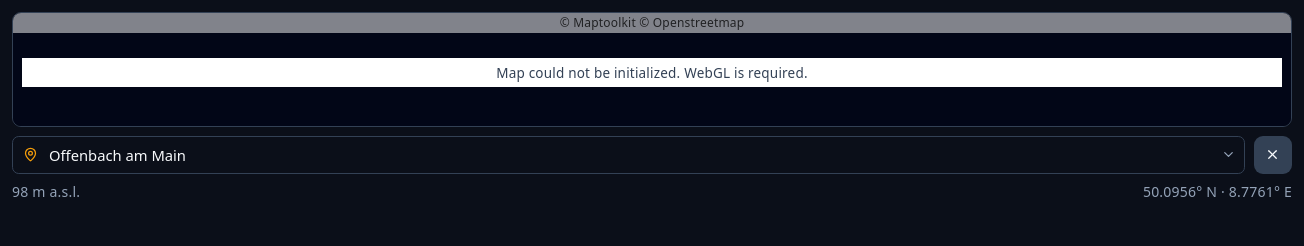
Test: LocationSelector Component › handles search API failure gracefully with error state
The width and height of the screenshot is (1304, 246).
Replace the text in the field with placeholder "Search location..." with "Fail" at (628, 155), box left=12, top=136, right=1245, bottom=174
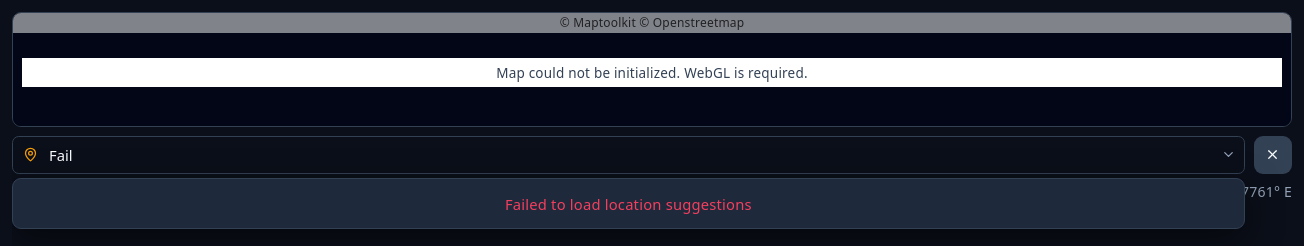
expect the text "Failed to load location suggestions" is shown: met, box left=505, top=193, right=752, bottom=215
